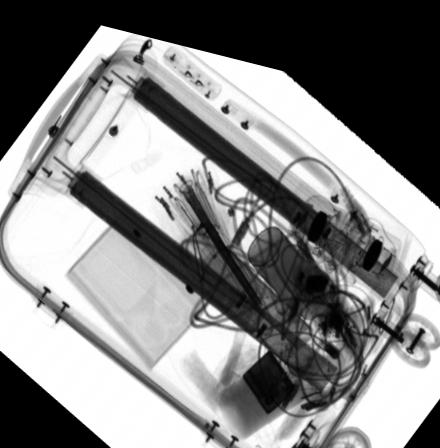Lighter: (242, 336, 295, 402)
